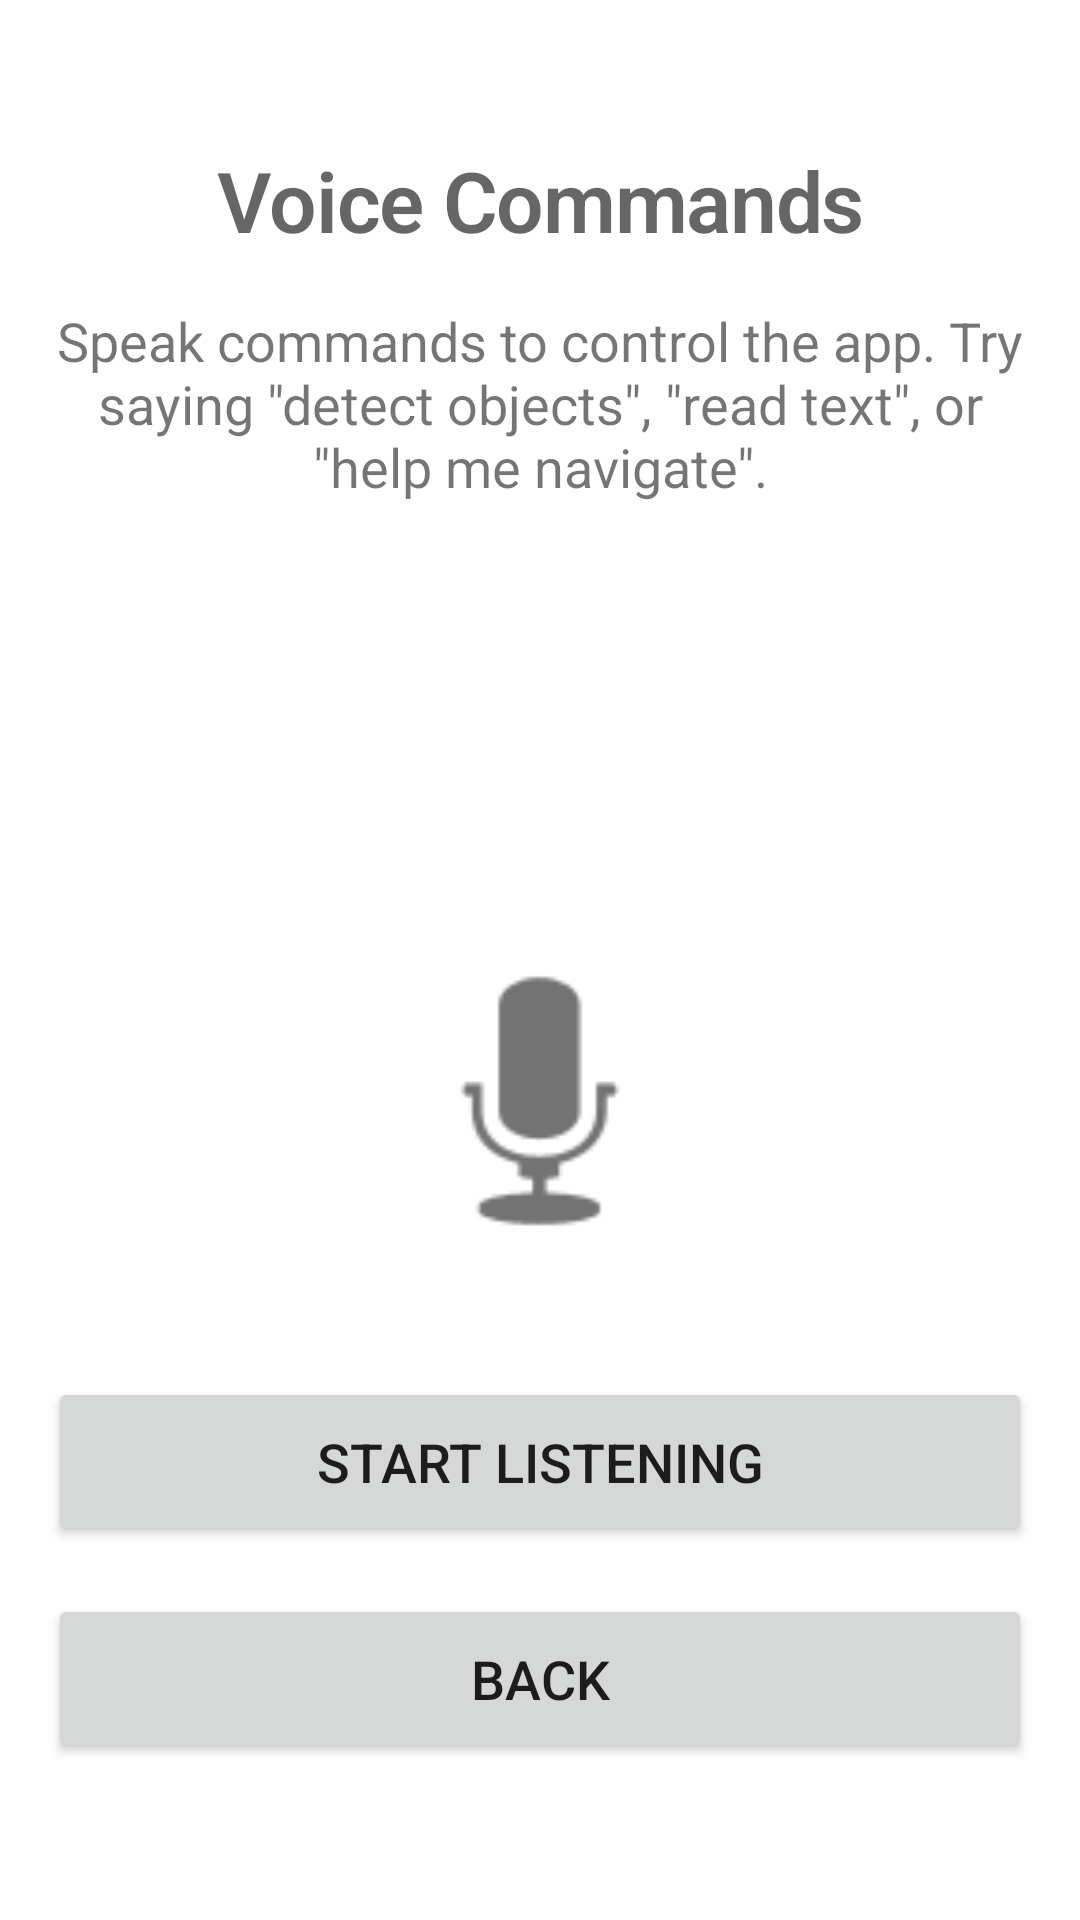

Where to tap for icons on this 1080px×1920px app screen, as (x=x, y=y):
Microphone icon: (x=540, y=1101)
